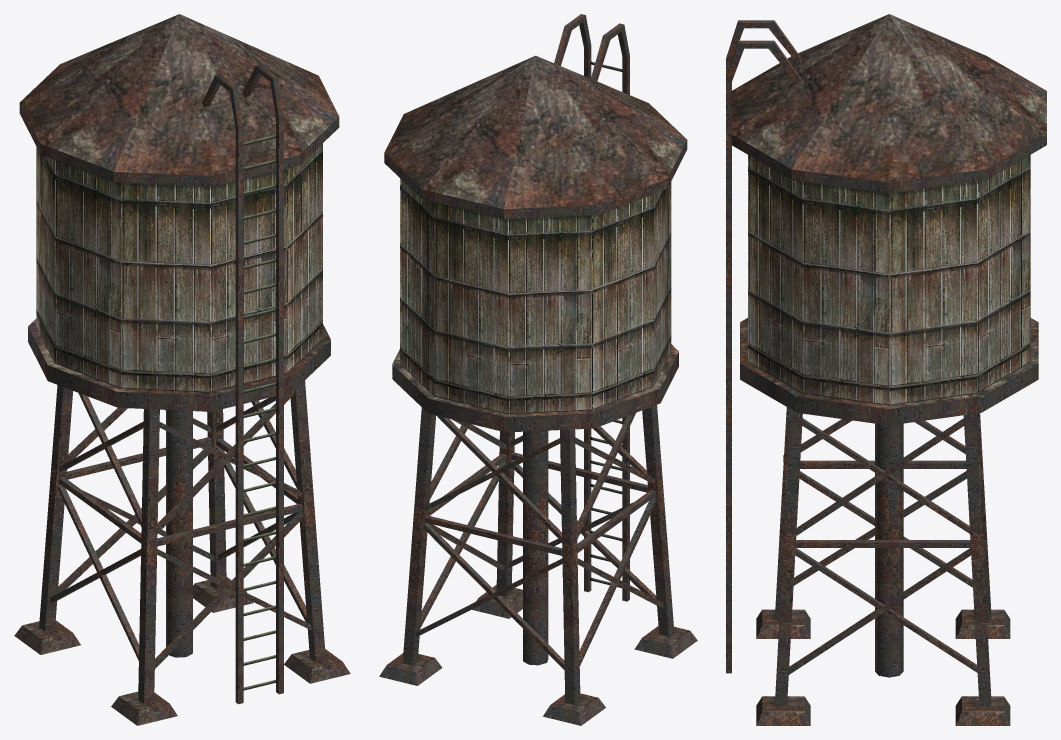
Rendered from watertower12m.fbx.
The picture shows the model from 3 angles, left to right: view 1: azimuth 30°, elevation 25°; view 2: azimuth 150°, elevation 25°; view 3: azimuth 270°, elevation 25°; orthographic projection. The views are drawn at different scales.
Visible parts, largest first — view 1: mesh_0, mesh_2; view 2: mesh_0, mesh_2; view 3: mesh_0.
Part boxes in pixels (bbox=[...]): mesh_0: bbox=[14, 14, 350, 725]; mesh_2: bbox=[243, 134, 277, 690]; mesh_0: bbox=[379, 14, 697, 725]; mesh_2: bbox=[590, 61, 622, 587]; mesh_0: bbox=[726, 14, 1046, 725].
Size of the model in its own units: 548 by 1201 by 531.
